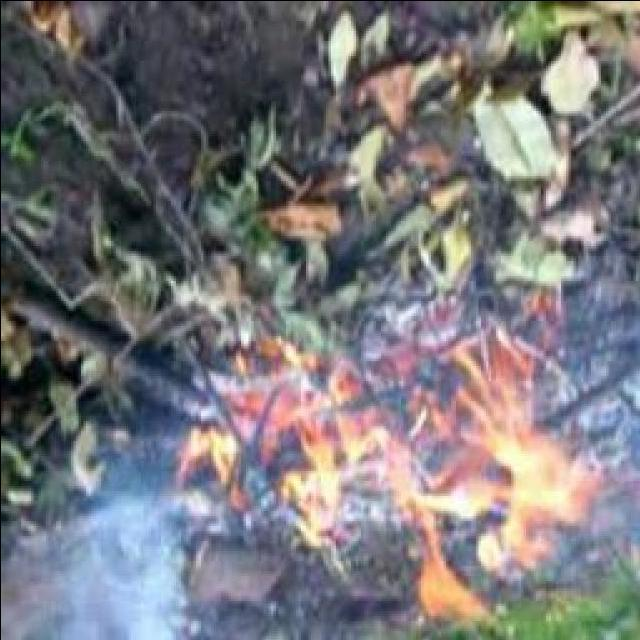Fire: (232, 346, 604, 620)
